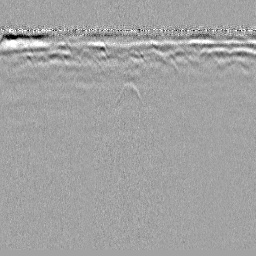cavity: (113, 81, 143, 109)
